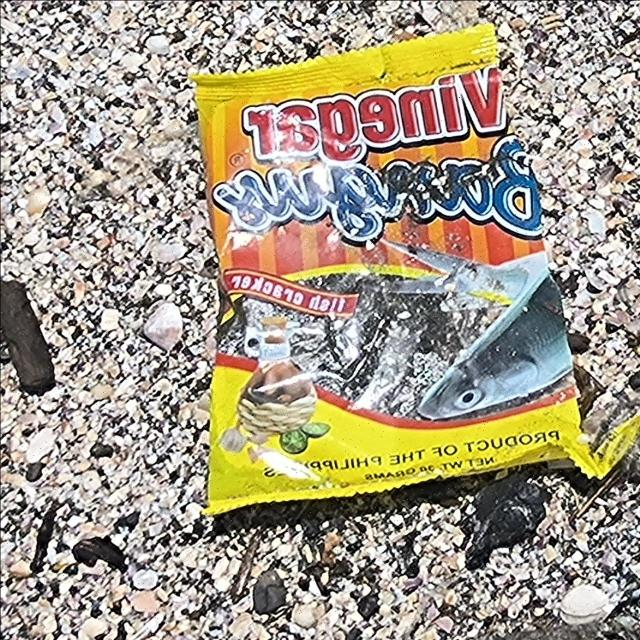plastic_waste: (188, 22, 597, 520)
